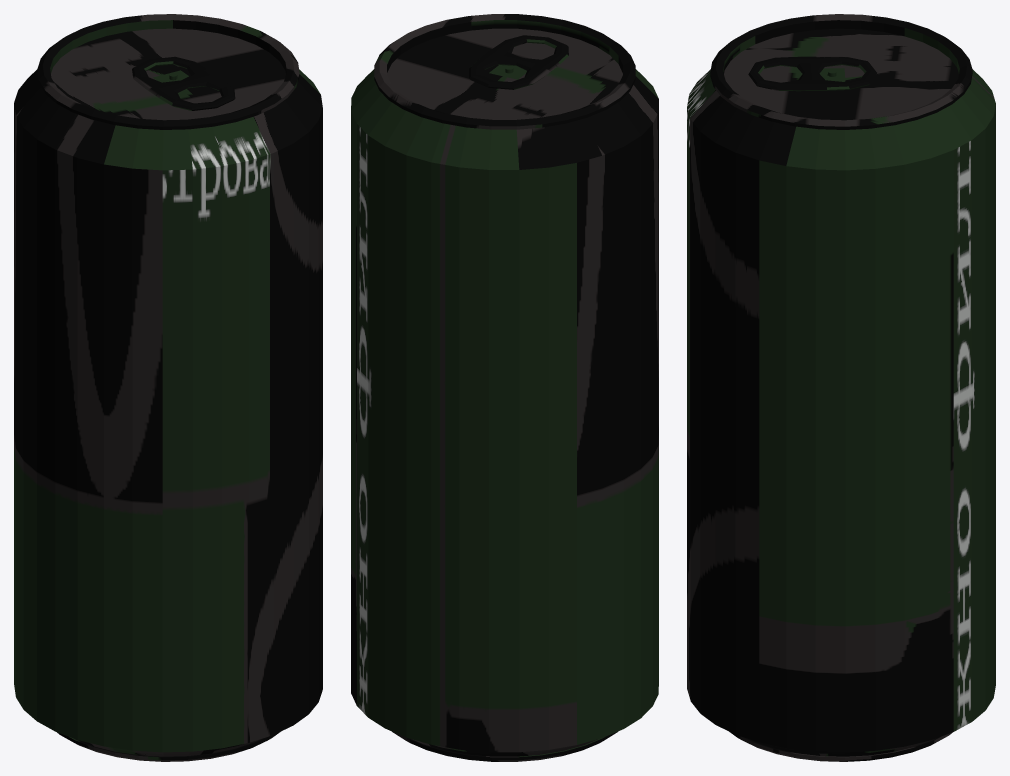
Rendered from Beer.fbx.
The picture shows the model from 3 angles, left to right: view 1: azimuth 30°, elevation 25°; view 2: azimuth 150°, elevation 25°; view 3: azimuth 270°, elevation 25°; orthographic projection.
Visible parts, largest first — view 1: Beer_Baked; view 2: Beer_Baked; view 3: Beer_Baked.
Part boxes in pixels (x1,y1,x2,y2): Beer_Baked: [14, 14, 322, 761]; Beer_Baked: [351, 14, 658, 761]; Beer_Baked: [687, 14, 995, 761].
Bounding box in the file's own units: 5.2 × 11.94 × 5.2.
1 material, 1 textured.
